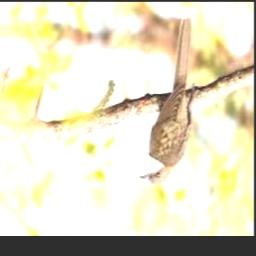Cuckoo: (138, 14, 193, 185)
